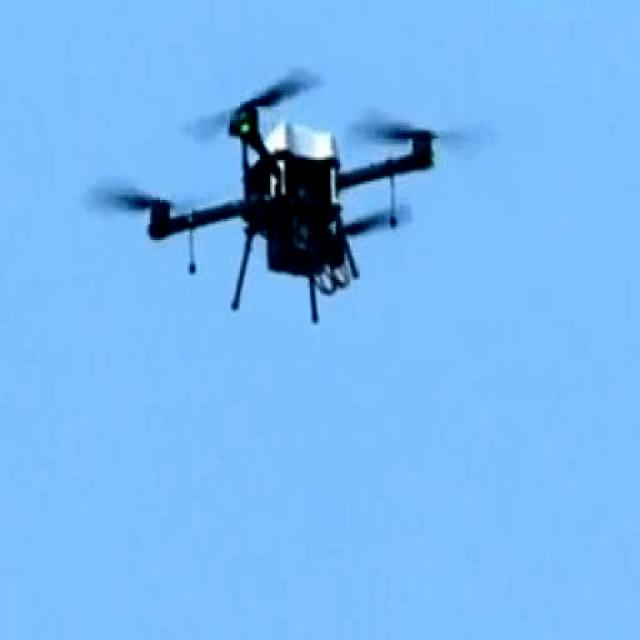bird: (85, 45, 474, 318)
